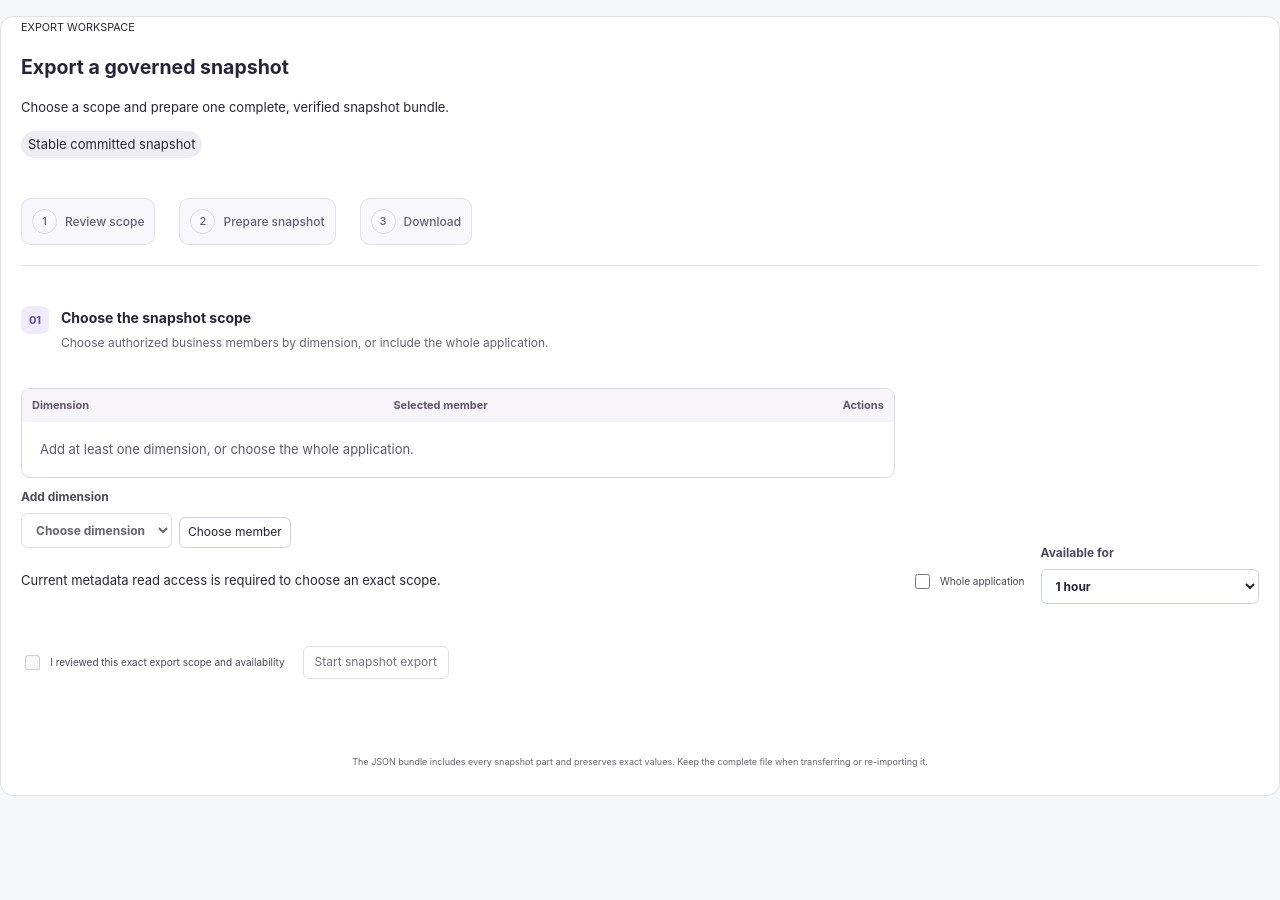
Scenario: reuses one logical export key when the response must be retried
The width and height of the screenshot is (1280, 900).
Click the checkbox labelled "Whole application": (922, 581) [915, 574, 930, 589]
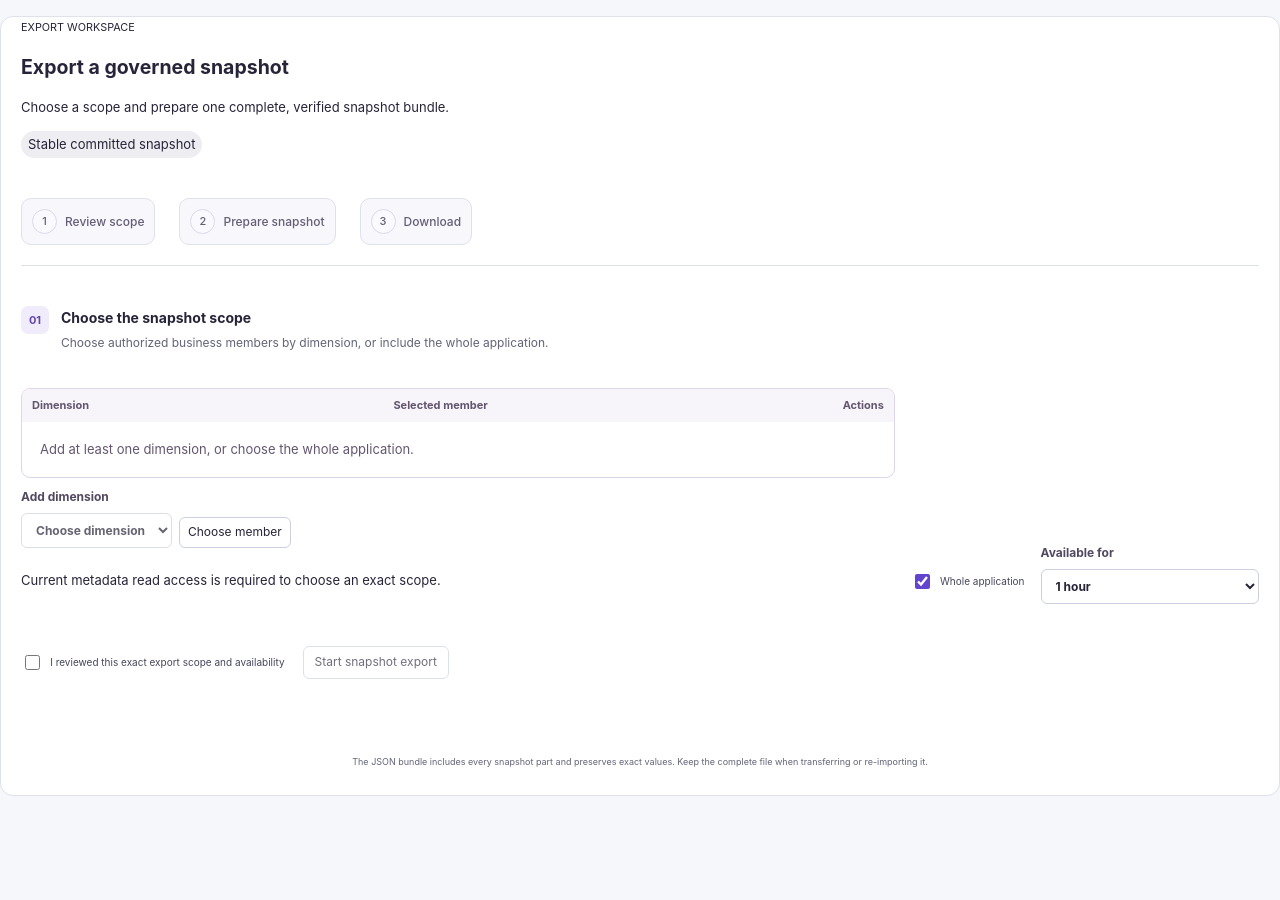
Click the checkbox labelled "I reviewed this exact export scope and availability": (32, 662) [25, 655, 40, 670]
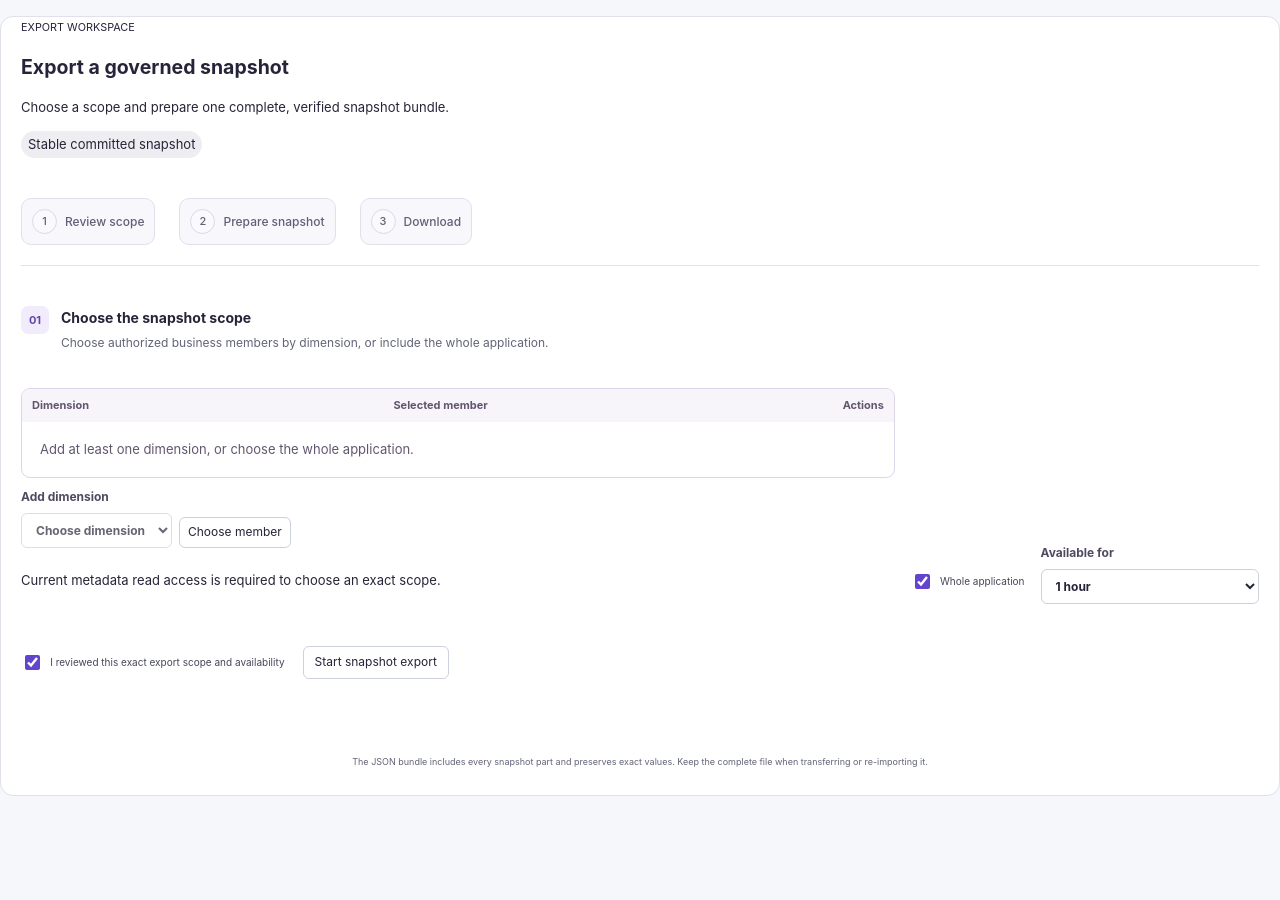
Click the button "Start snapshot export": (376, 662) [302, 646, 449, 679]
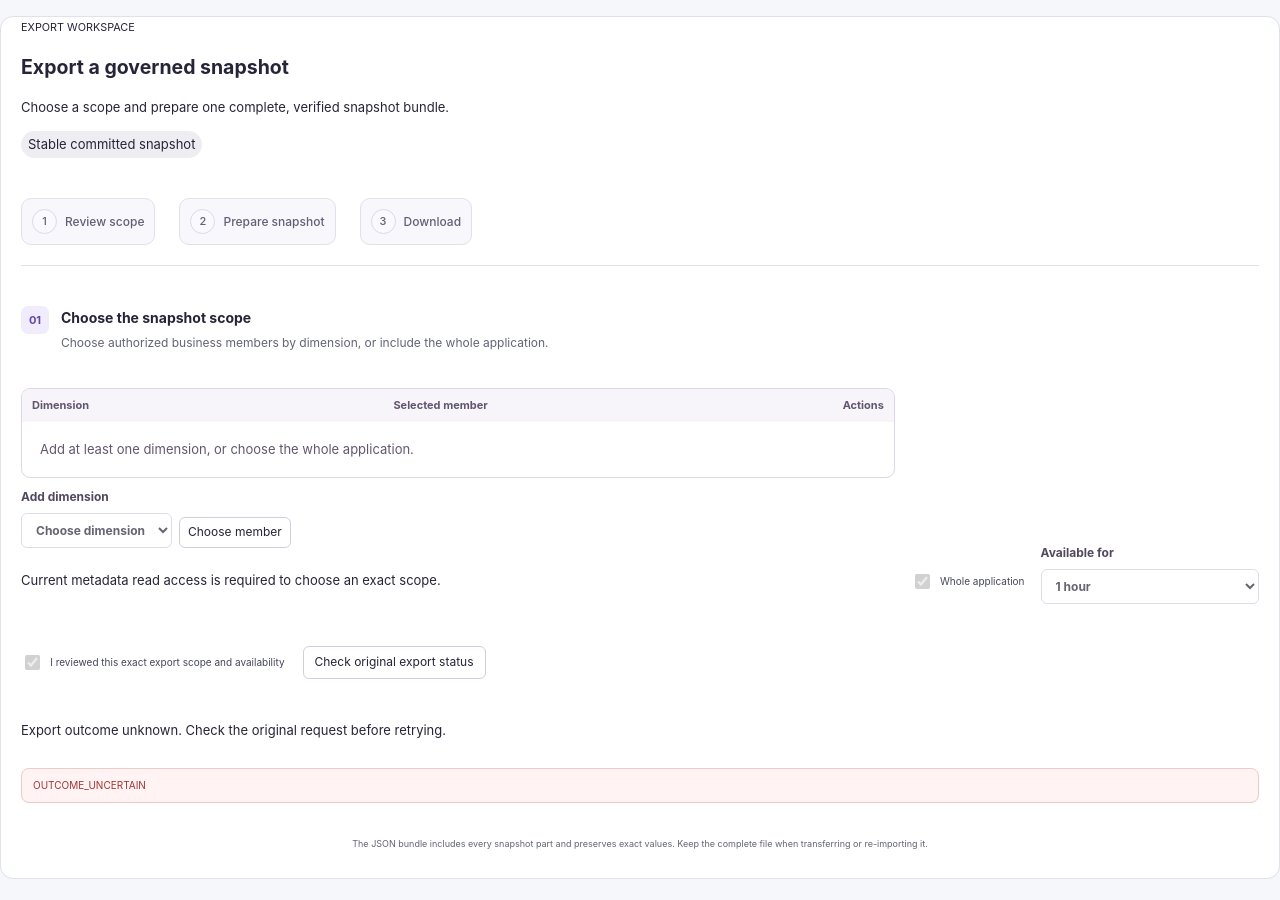
Check: the text "OUTCOME_UNCERTAIN" is shown, box [21, 768, 1259, 803]
Click the button "Check original export status": (394, 662) [302, 646, 486, 679]
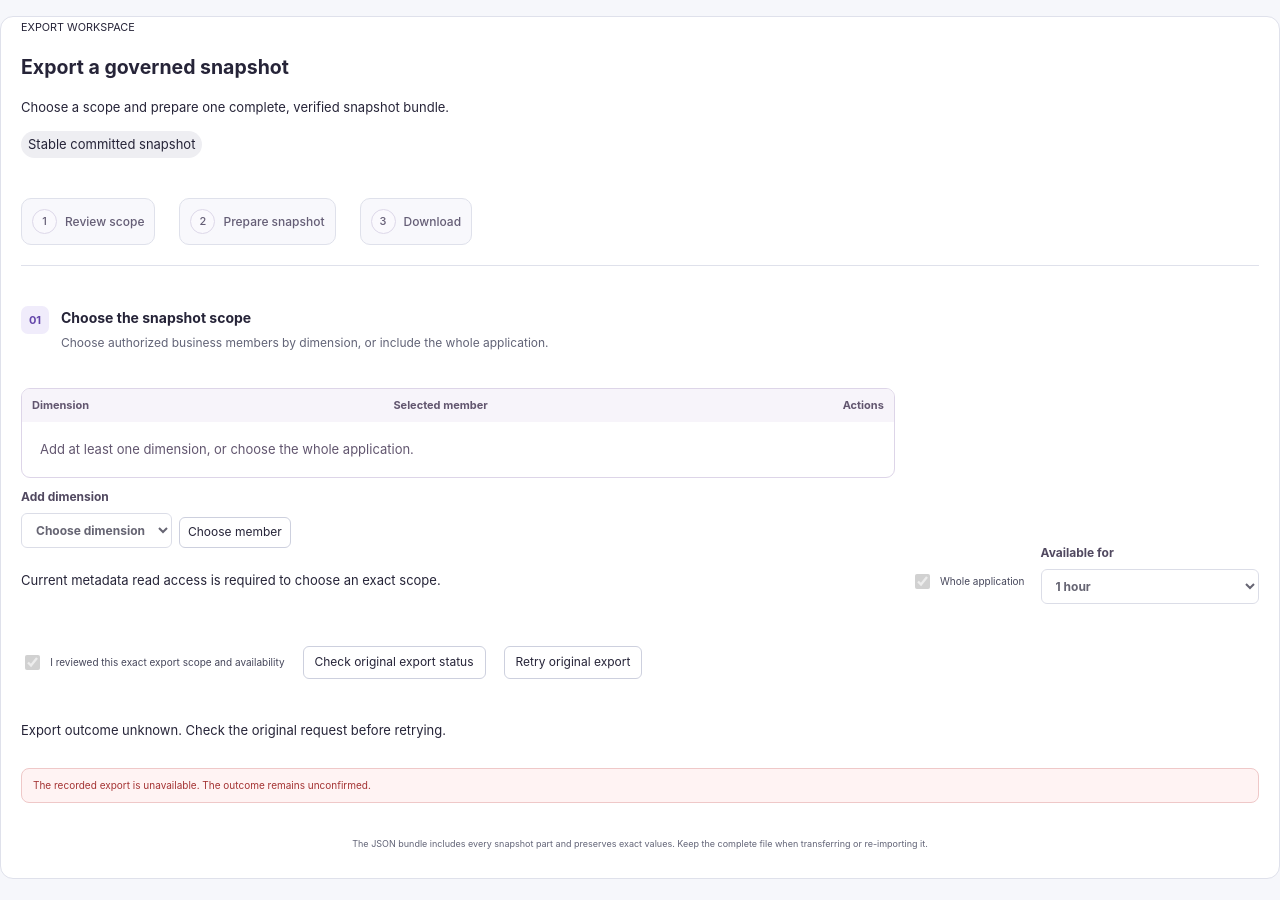
Click the button "Retry original export": (573, 662) [504, 646, 642, 679]
(page scrolled)
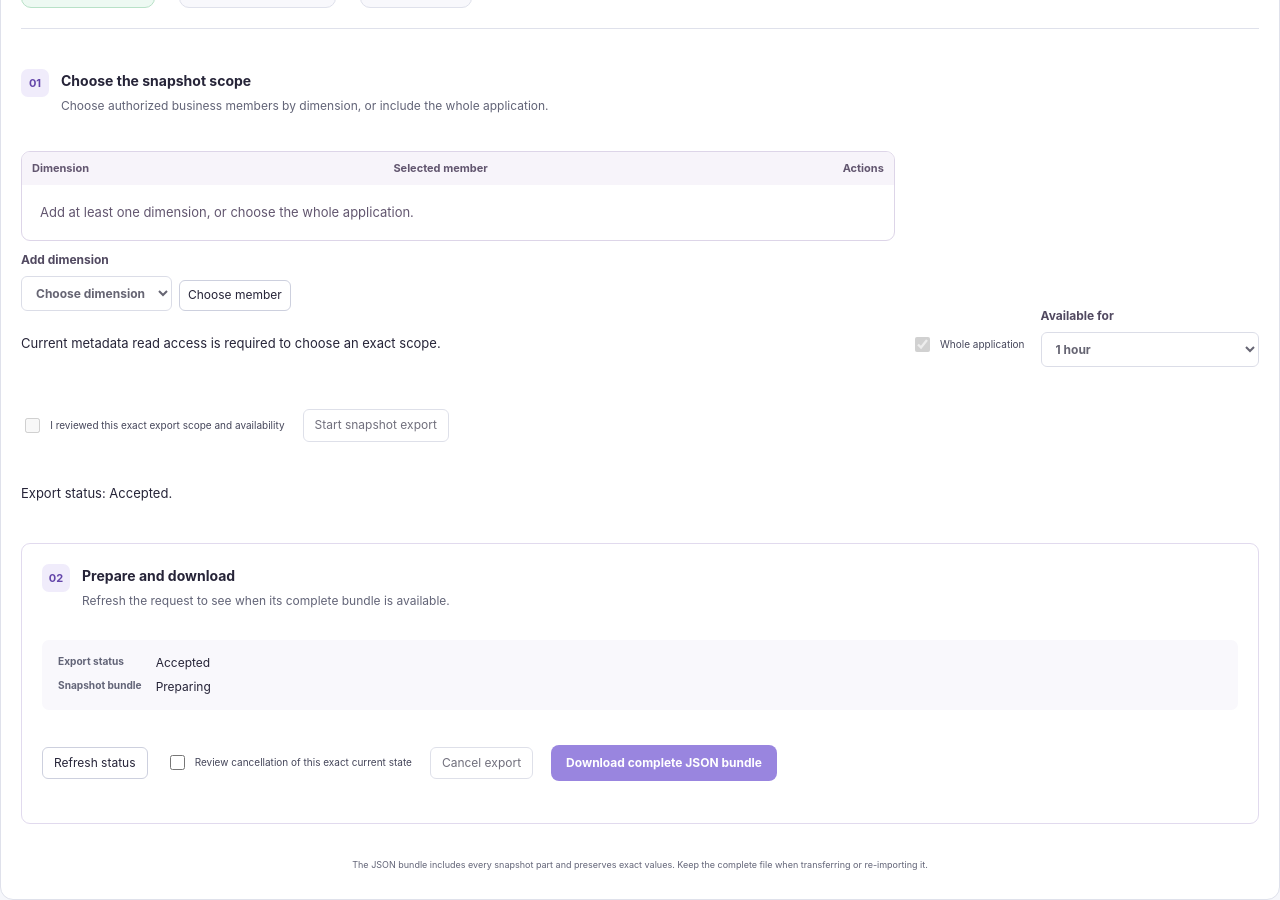
Check: the text "Accepted" is shown, box [156, 656, 210, 670]
